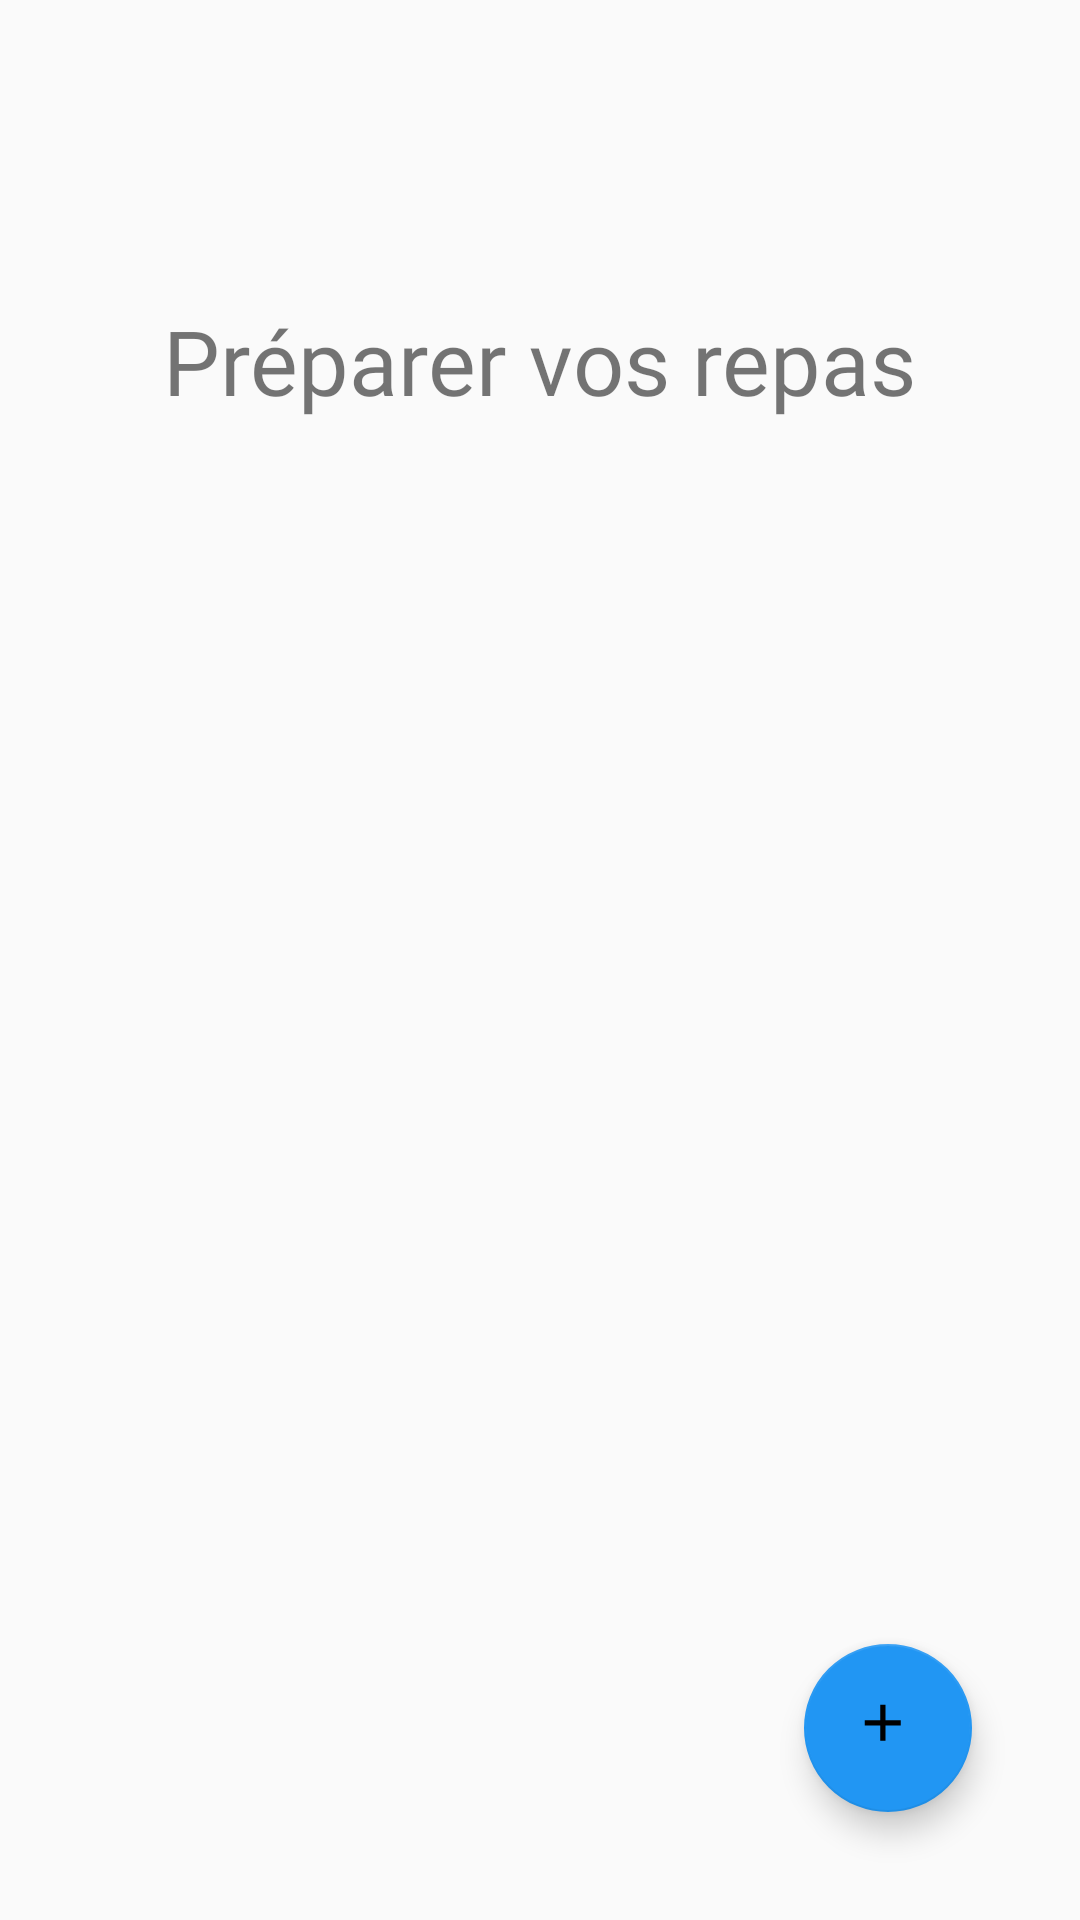

Where to tap for icons on this 1080w x 1920h app screen, as [x,y]:
plus: [888,1728]
